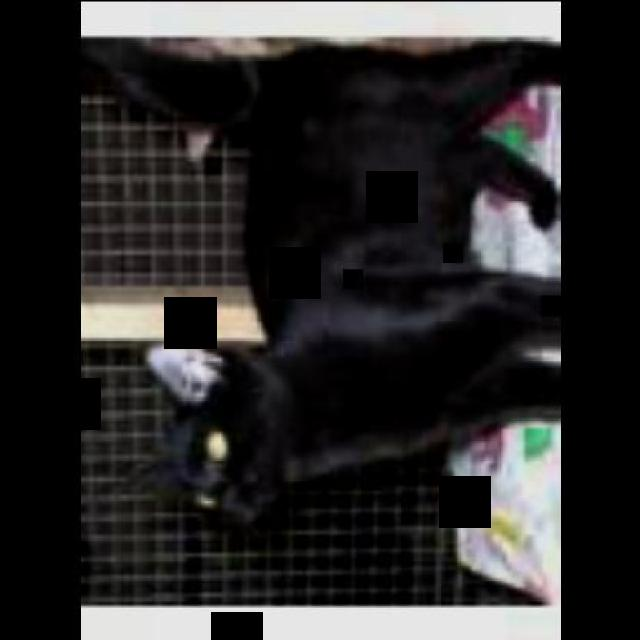unauthorized: (83, 35, 560, 528)
